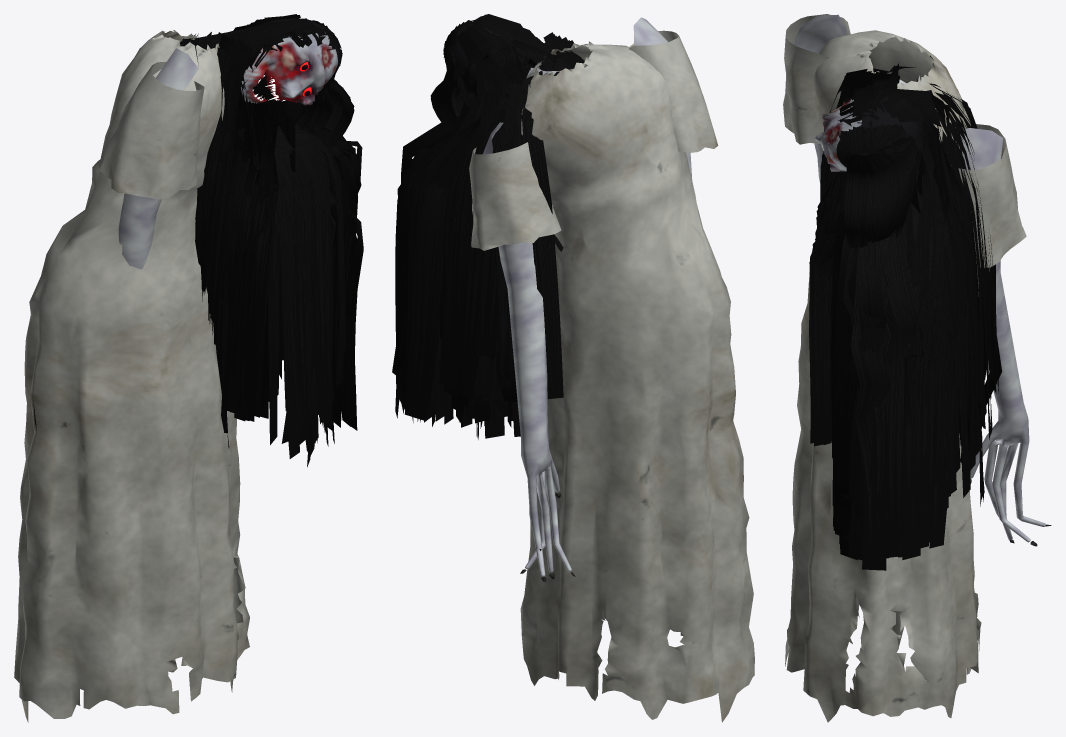
Rendered from Ma_LoDau.fbx.
The picture shows the model from 3 angles, left to right: view 1: azimuth 30°, elevation 25°; view 2: azimuth 150°, elevation 25°; view 3: azimuth 270°, elevation 25°; orthographic projection. The views are drawn at different scales.
Visible parts, largest first — view 1: Vay, Toc, TayAo_R, MatMa, Than; view 2: Vay, Toc, Than, TayAo_L, TayAo_R, DaDau; view 3: Toc, Vay, Than, TayAo_L, TayAo_R, MatMa, DaDau.
Part boxes in pixels (left/top/right/bottom): Vay: left=14, top=30, right=249, bottom=722; Toc: left=180, top=14, right=363, bottom=467; TayAo_R: left=99, top=61, right=204, bottom=199; MatMa: left=241, top=32, right=337, bottom=105; Than: left=118, top=48, right=198, bottom=269; Vay: left=520, top=41, right=754, bottom=722; Toc: left=392, top=14, right=584, bottom=439; Than: left=483, top=17, right=692, bottom=576; TayAo_L: left=469, top=142, right=561, bottom=250; TayAo_R: left=629, top=30, right=718, bottom=152; DaDau: left=452, top=23, right=500, bottom=84; Toc: left=809, top=63, right=1002, bottom=570; Vay: left=785, top=30, right=981, bottom=722; Than: left=794, top=14, right=1045, bottom=542; TayAo_L: left=951, top=124, right=1026, bottom=267; TayAo_R: left=783, top=14, right=850, bottom=144; MatMa: left=815, top=99, right=861, bottom=171; DaDau: left=836, top=95, right=921, bottom=167.
Bounding box in the file's own units: 0.9256 × 1.72 × 0.602.
